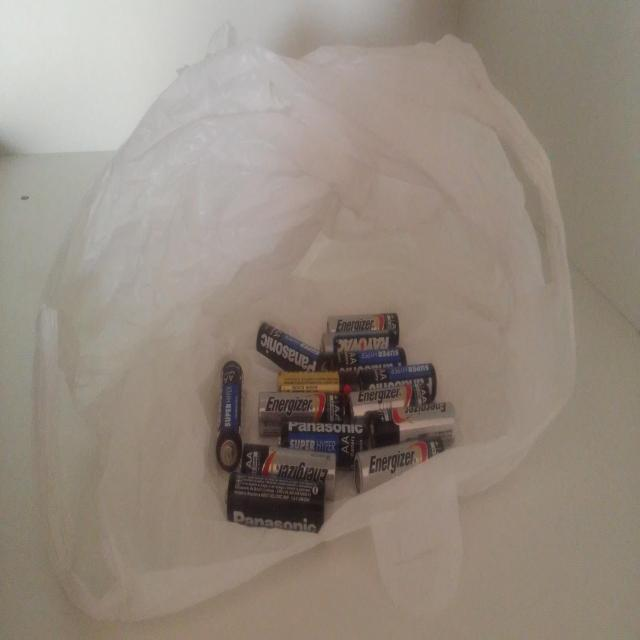litter: (40, 15, 574, 622), (224, 471, 325, 536), (353, 436, 445, 497), (241, 442, 336, 501), (277, 420, 369, 472), (363, 399, 458, 447), (259, 391, 345, 437), (256, 317, 330, 369), (345, 382, 432, 422), (358, 360, 438, 401), (215, 359, 244, 472), (326, 312, 401, 346), (320, 328, 397, 353), (327, 346, 407, 369), (277, 369, 359, 390)
